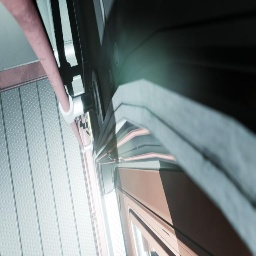EmergencyPhone ,: (82, 110, 96, 142)
